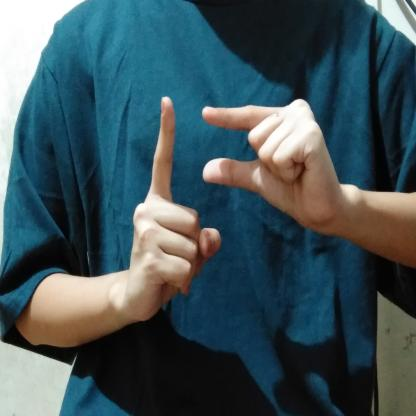daughter: (115, 88, 353, 334)
